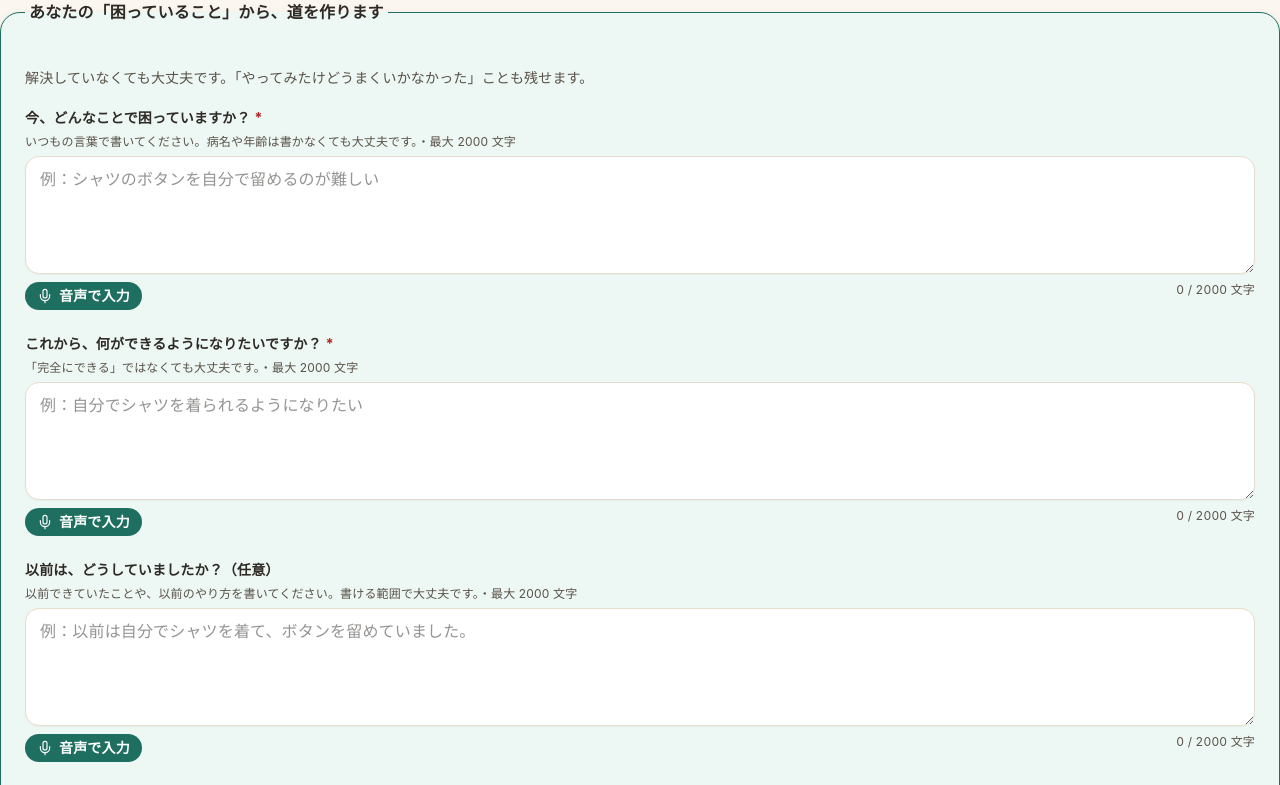
Scenario: 自分の道を作る：音声入力 › 話した内容が既存の文の後ろに足される（困っていること・メモ・気づき）
The width and height of the screenshot is (1280, 785).
Type "ボタンが" into the text box labelled "今、どんなことで困っていますか？" at coordinates (640, 215), box top-left (25, 156), bottom-right (1255, 274)
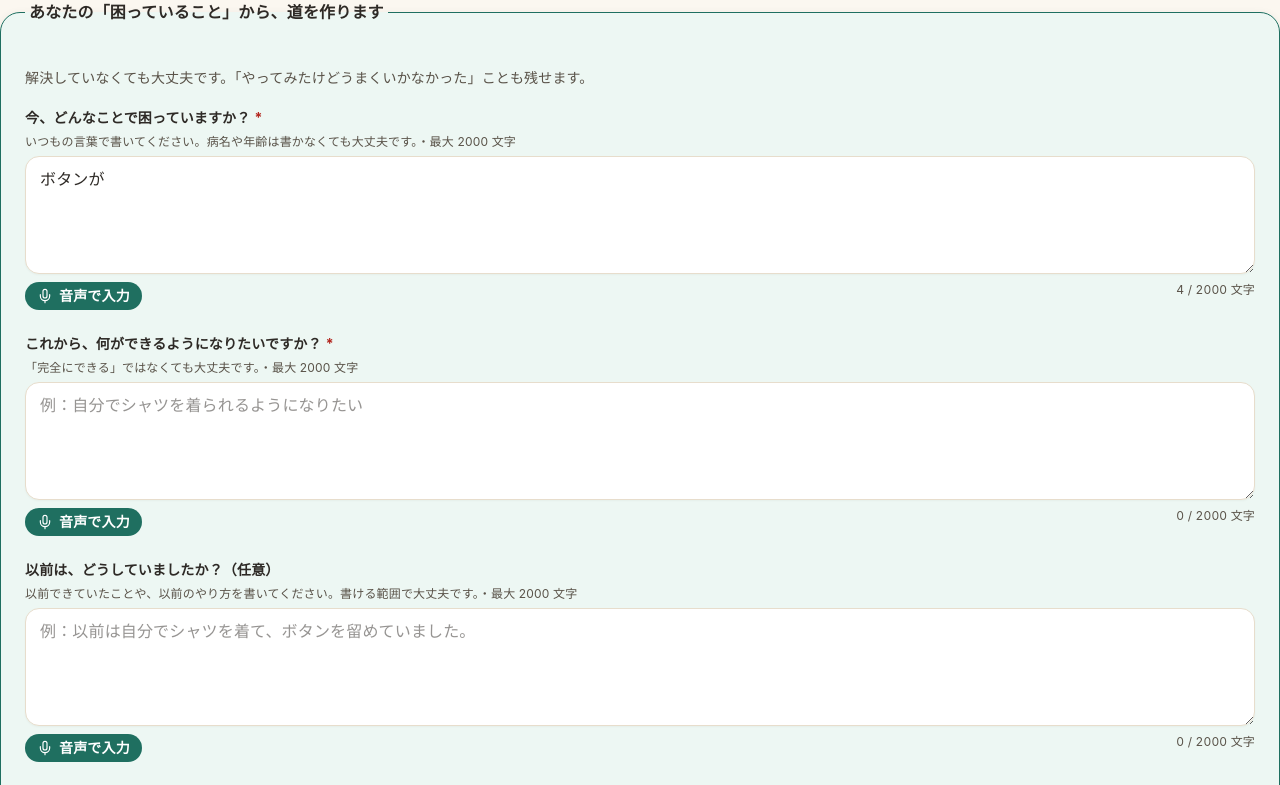
Click the button "音声で入力" below "いつもの言葉で書いてください。病名や年齢は書かなくても大丈夫です。" at coordinates (83, 296), box top-left (25, 282), bottom-right (142, 310)
(page scrolled)
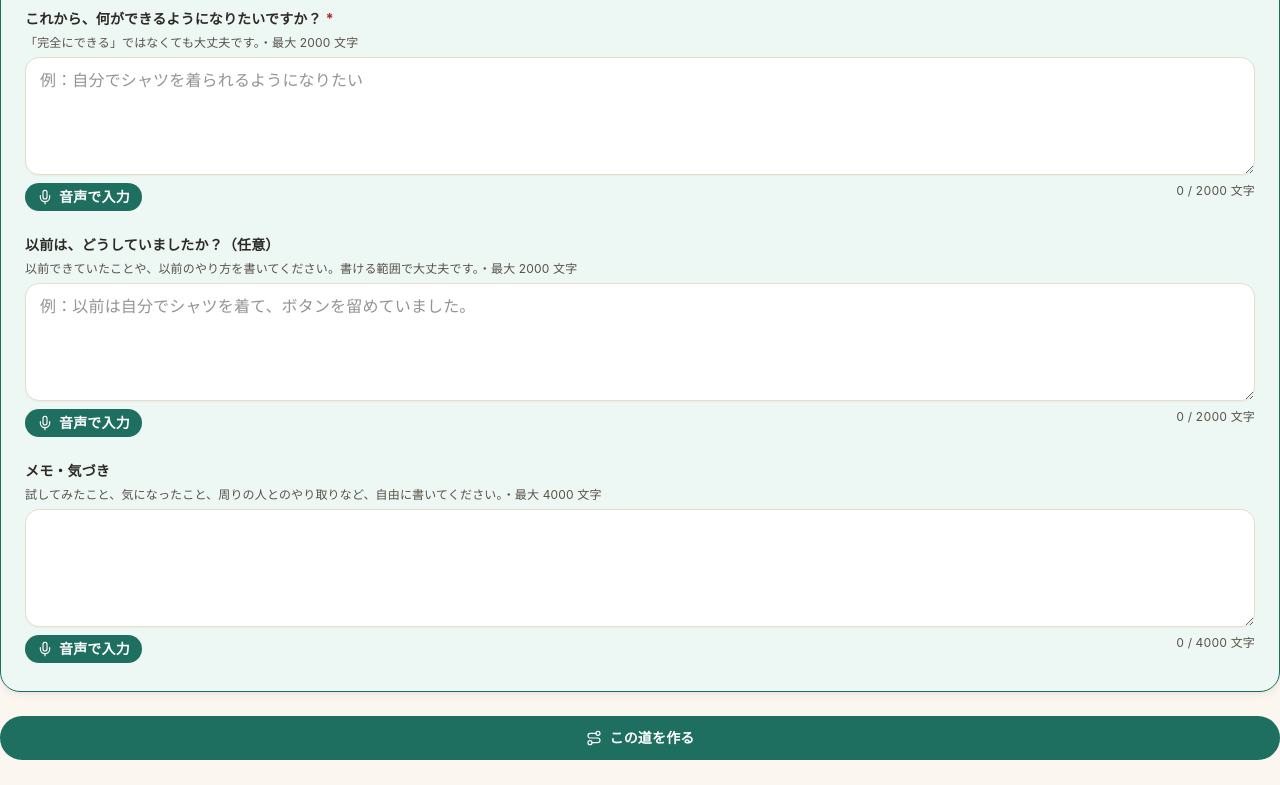
Click the button "音声で入力" below "試してみたこと、気になったこと、周りの人とのやり取りなど、自由に書いてください。" at coordinates (83, 649), box top-left (25, 635), bottom-right (142, 663)
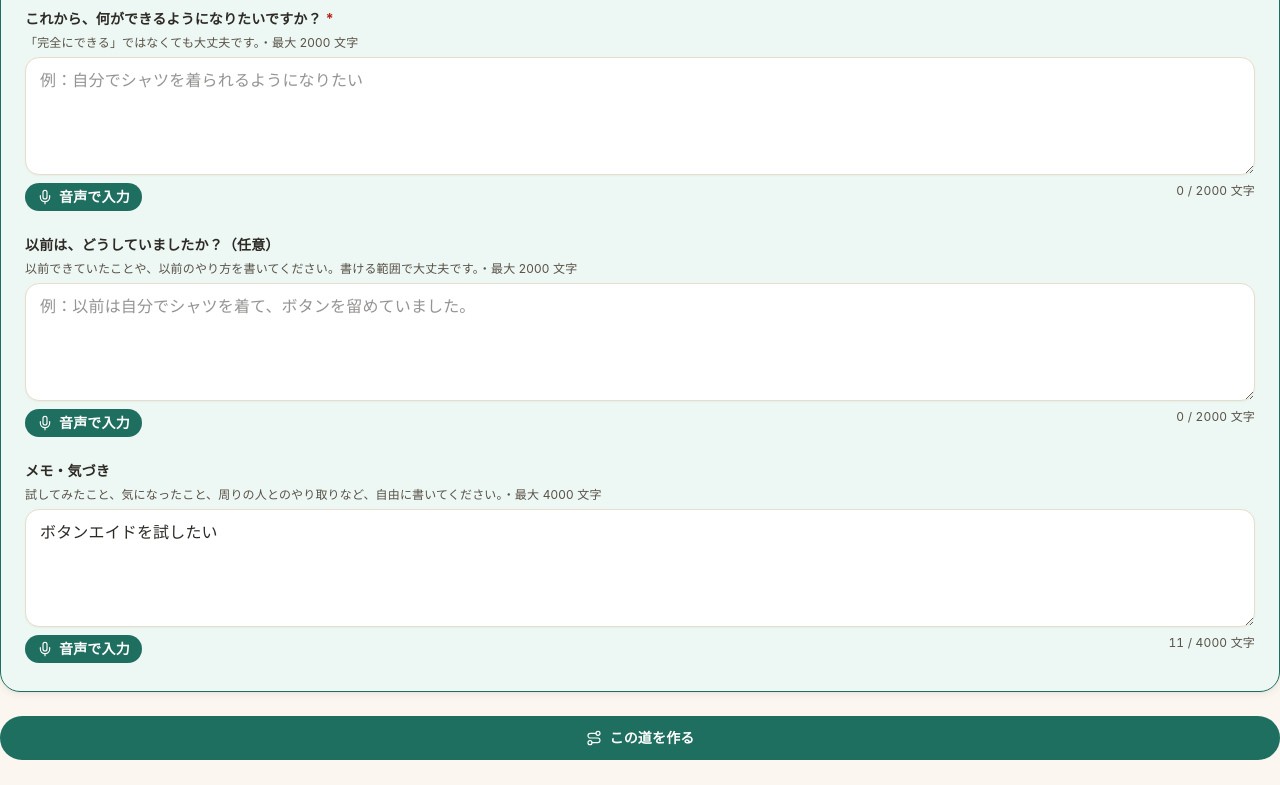
expect the text box labelled "メモ・気づき" holds "ボタンエイドを試したい": met, box top-left (25, 509), bottom-right (1255, 627)
expect the text "11 / 4000 文字" is shown: met, box top-left (1168, 635), bottom-right (1255, 651)
